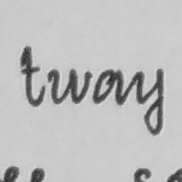a: (92, 67, 125, 107)
t: (18, 44, 46, 109)
w: (46, 66, 91, 105)
y: (131, 67, 166, 138)
